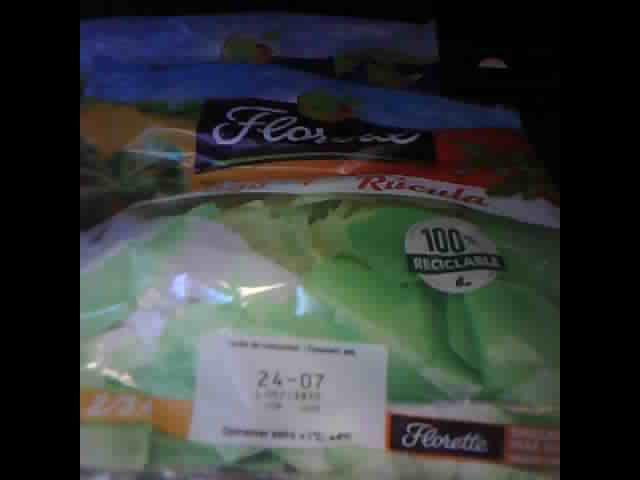florette: (79, 57, 558, 477), (81, 11, 454, 66)
